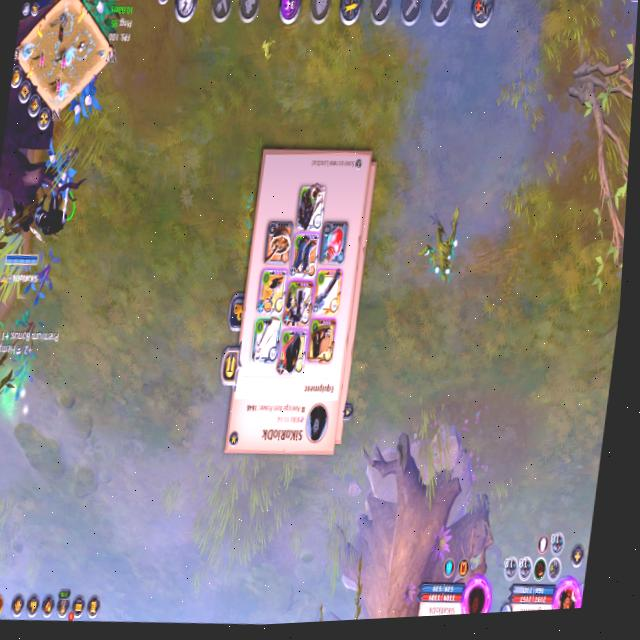hide: (37, 133, 83, 197), (63, 70, 106, 135), (72, 0, 126, 48)
ore: (403, 197, 480, 306)
red: (0, 176, 81, 293)
